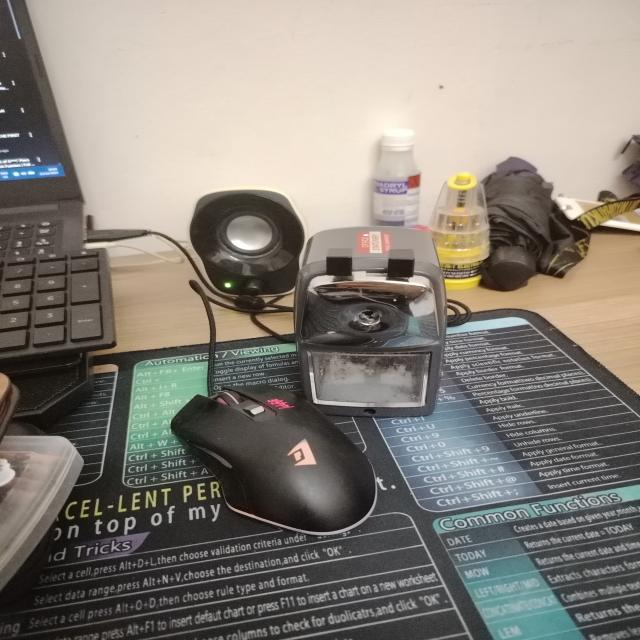sharpener: (294, 227, 447, 417)
